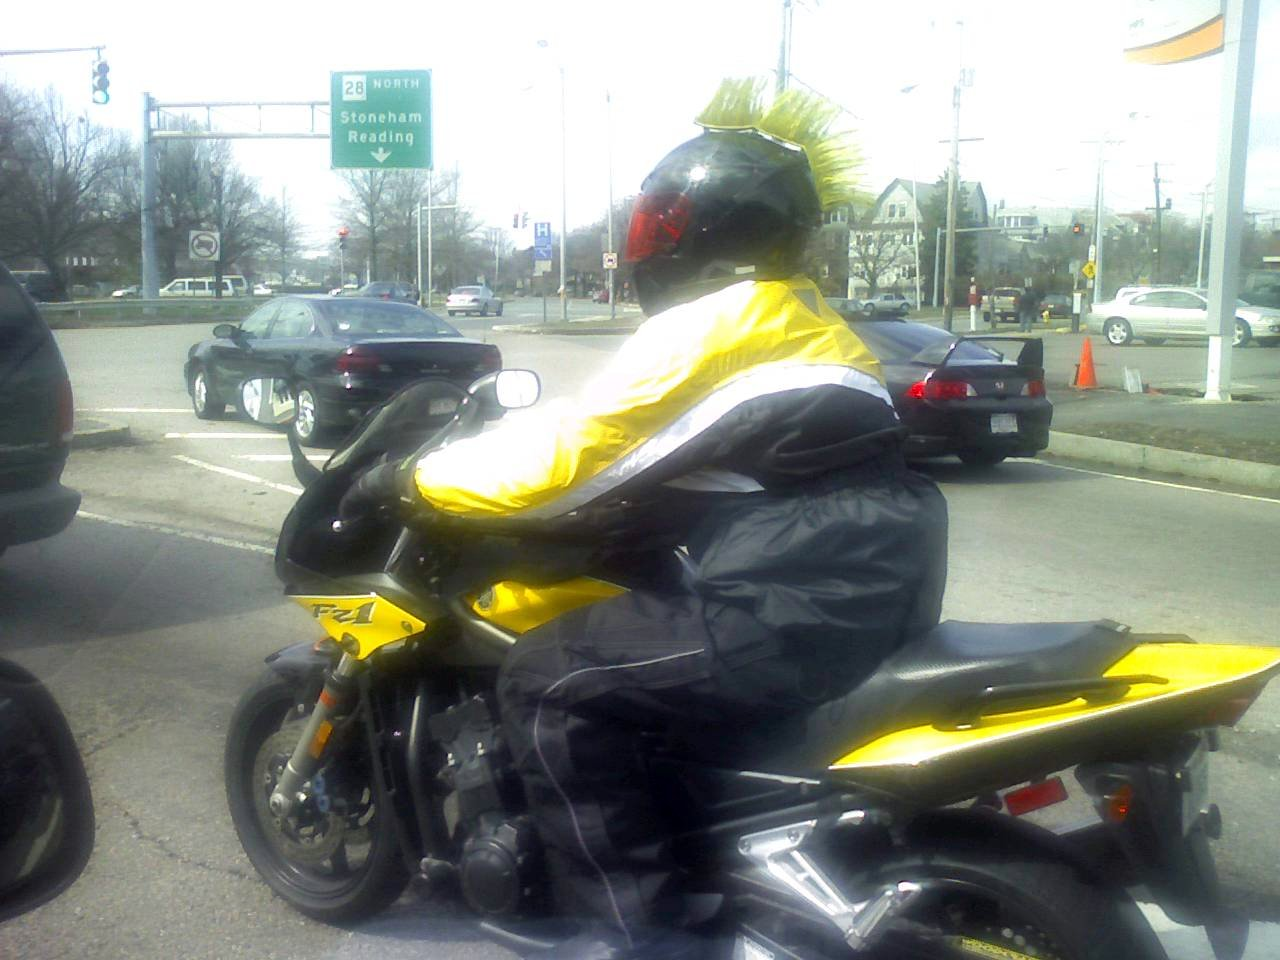helmet: (627, 131, 827, 312)
